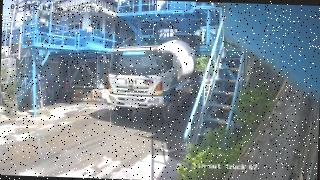cement_mixer_truck: (103, 38, 203, 121)
